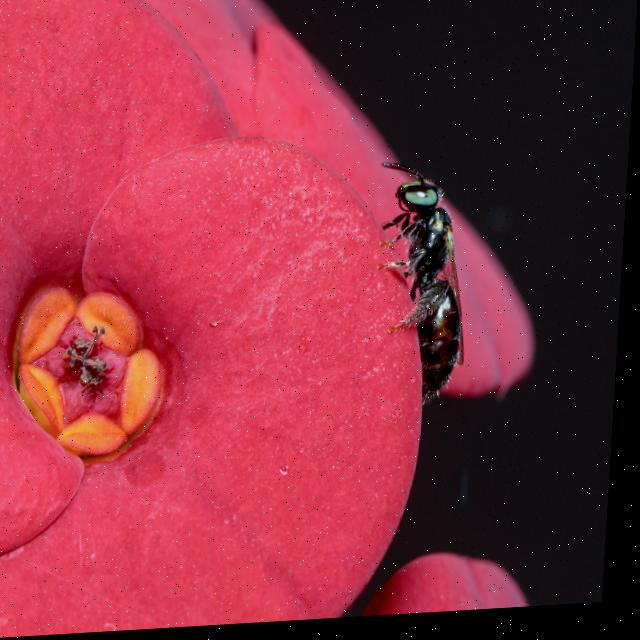Braunsapis: (365, 151, 498, 418)
